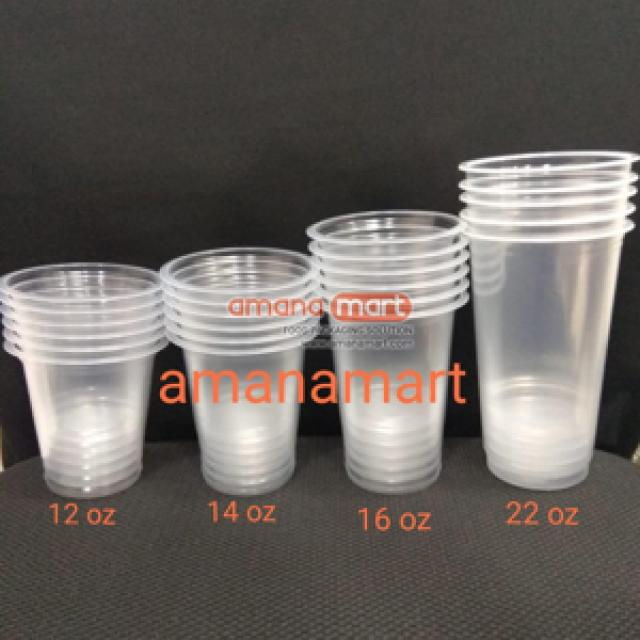plastic cup: (454, 137, 640, 497), (307, 203, 476, 501), (158, 241, 326, 499), (2, 258, 167, 504)
